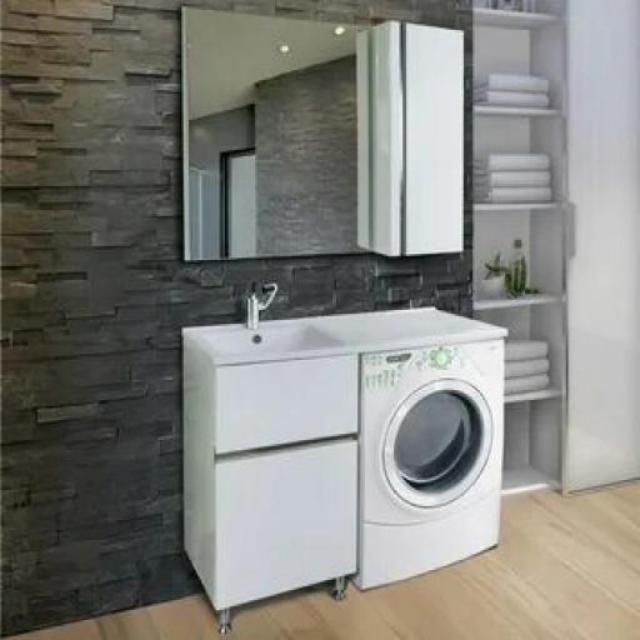Washing-Machine: (350, 336, 504, 572)
